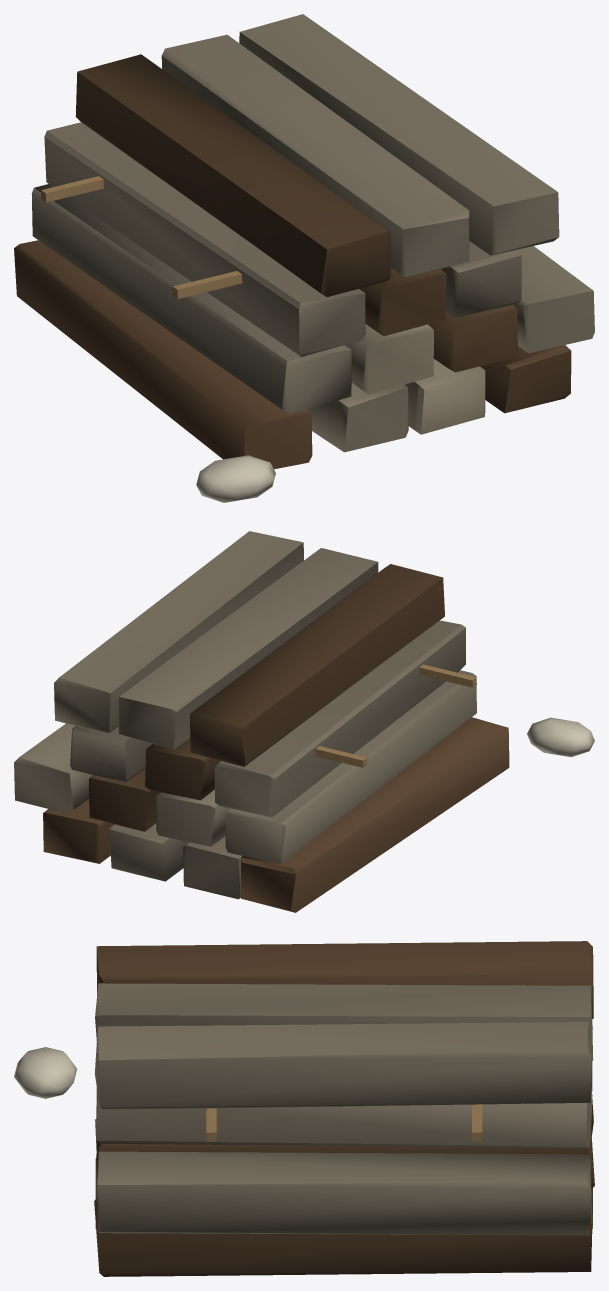
File: timber_ties_a_lod1.glb
3 views of the same model, one above another, from view 1: azimuth 30°, elevation 25°; view 2: azimuth 150°, elevation 25°; view 3: azimuth 270°, elevation 25° (orthographic). The views are drawn at different scales.
Visible parts, largest first — view 1: Surface.001; view 2: Surface.001; view 3: Surface.001.
Boxes of the visible parts, x1,y1,x2,y2 form: Surface.001: (14, 14, 594, 502); Surface.001: (14, 531, 594, 912); Surface.001: (14, 941, 594, 1276).
Bounding box in the file's own units: 2.98 × 1.44 × 3.5.
